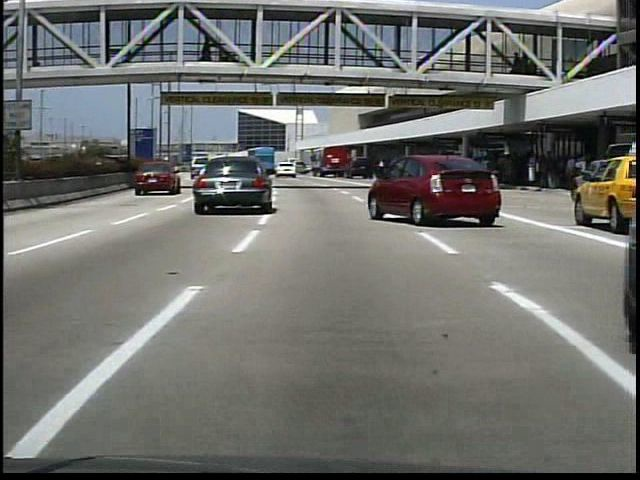person: (202, 34, 218, 62)
